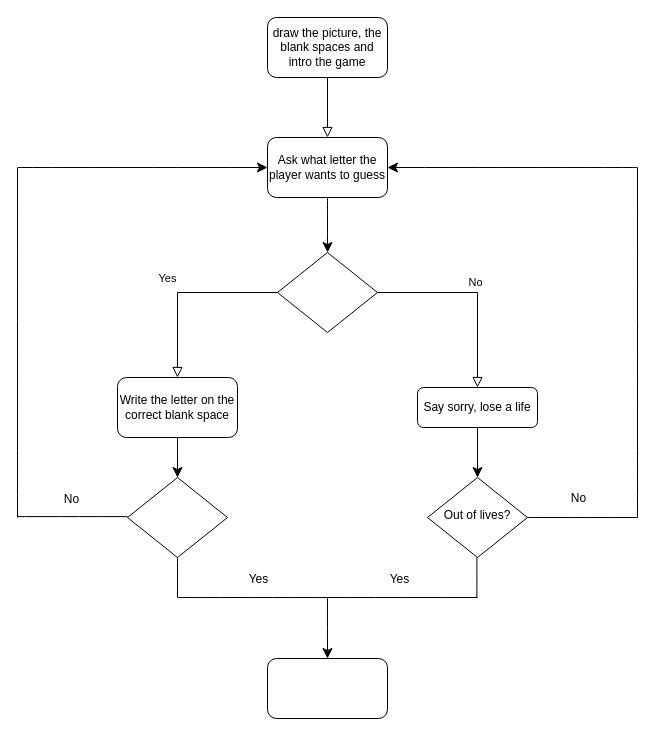
Some shapes in this 656 by 736 pixel diagram are drawn without their labels. The shapes that lost their labels are listed below. From the top down, each one's box as (x1, y1, x2, y2) in pixels, then its label:
(276, 252, 378, 332): Player guessed?
(126, 476, 228, 558): All blanks filled?
(266, 658, 388, 718): GAME OVER
